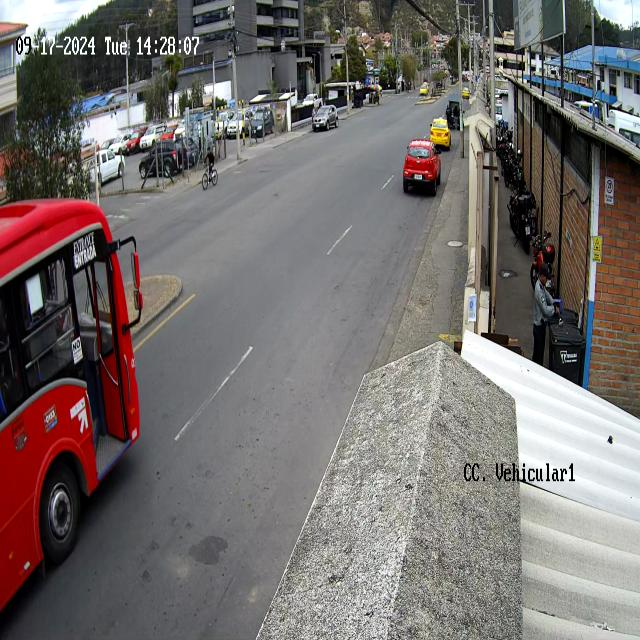BUS: (0, 200, 143, 618)
